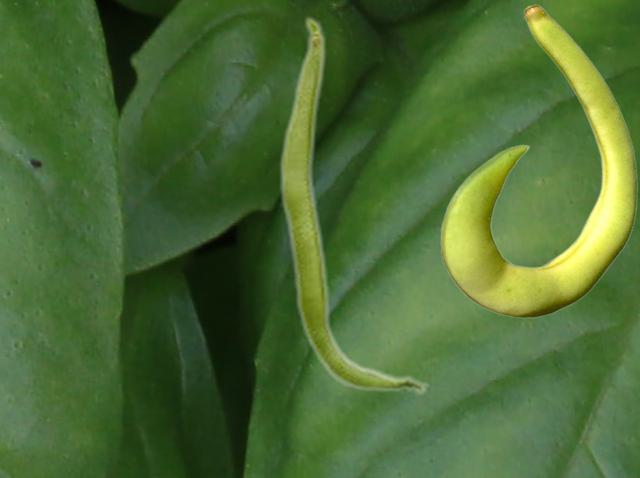french_bean: (440, 4, 637, 317), (277, 15, 428, 395)
